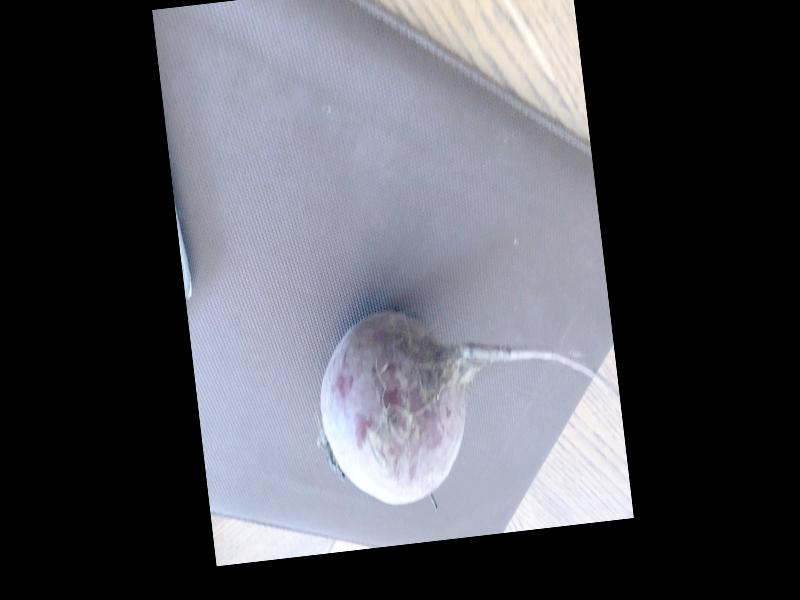Beet: (310, 287, 626, 511)
